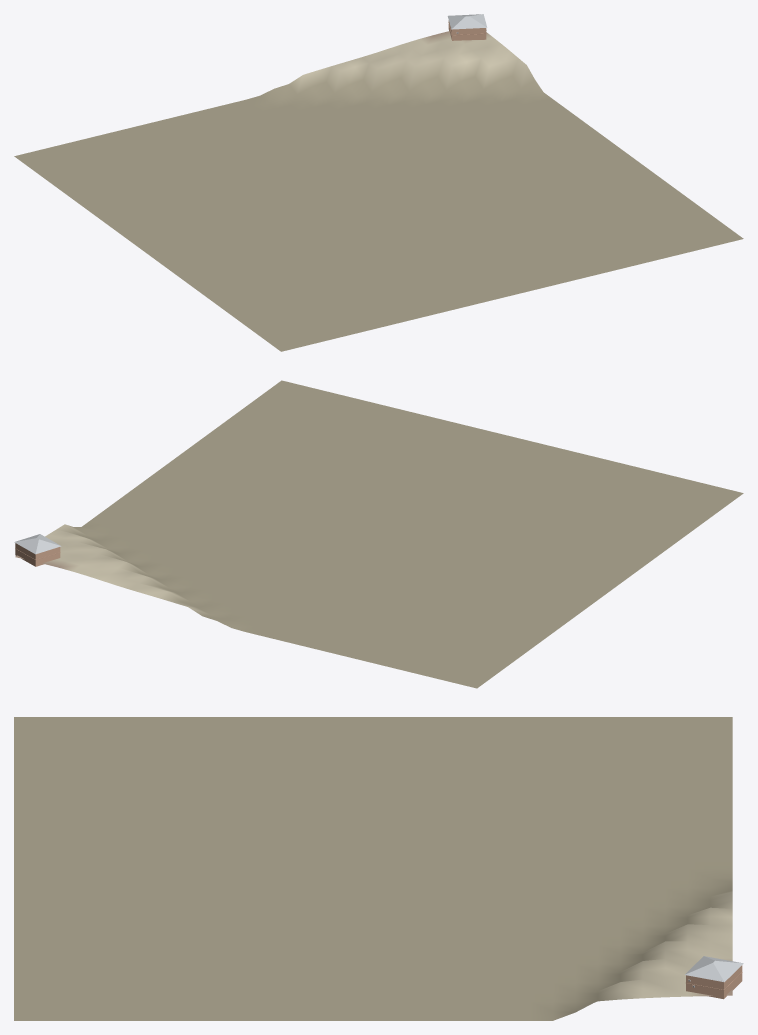
The picture shows the model from 3 angles, top to bottom: view 1: azimuth 30°, elevation 25°; view 2: azimuth 150°, elevation 25°; view 3: azimuth 270°, elevation 25°; orthographic projection. The views are drawn at different scales.
Visible parts, largest first — view 1: Terrain-col, Buildings-col; view 2: Terrain-col, Buildings-col; view 3: Terrain-col, Buildings-col.
Part boxes in pixels (left/top/right/bottom): Terrain-col: left=14, top=31, right=743, bottom=351; Buildings-col: left=447, top=14, right=487, bottom=40; Terrain-col: left=15, top=380, right=743, bottom=688; Buildings-col: left=14, top=534, right=61, bottom=566; Terrain-col: left=14, top=717, right=732, bottom=1020; Buildings-col: left=685, top=956, right=743, bottom=999.
Bounding box in the file's own units: 258 × 19.05 × 260.
